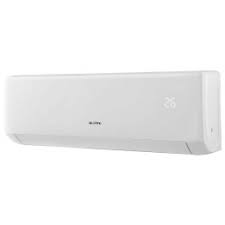ac: (4, 67, 225, 156)
